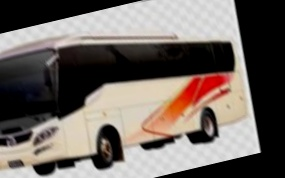bus: (0, 0, 260, 178)
